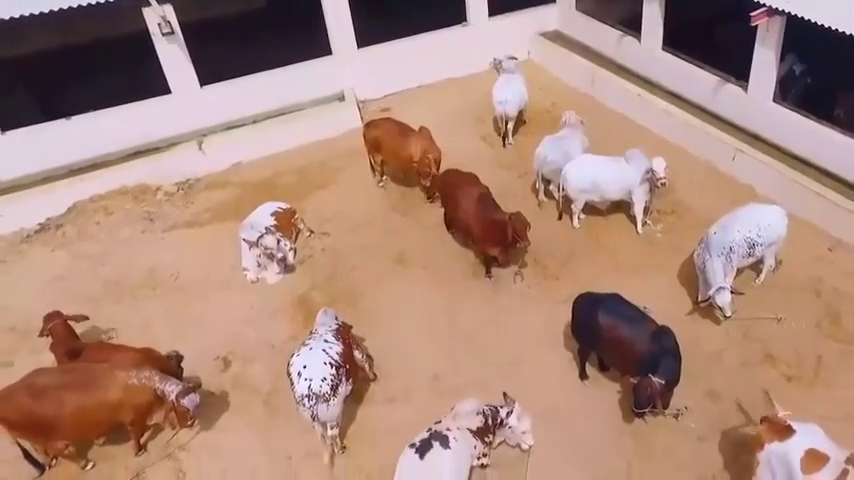bo: (4, 357, 202, 473), (562, 283, 682, 428), (424, 151, 537, 289), (282, 296, 376, 456), (685, 194, 793, 322), (384, 394, 538, 476), (34, 299, 185, 375), (549, 142, 669, 232), (741, 399, 851, 478), (354, 110, 443, 200), (234, 202, 315, 285), (477, 42, 528, 151), (534, 97, 587, 199)
